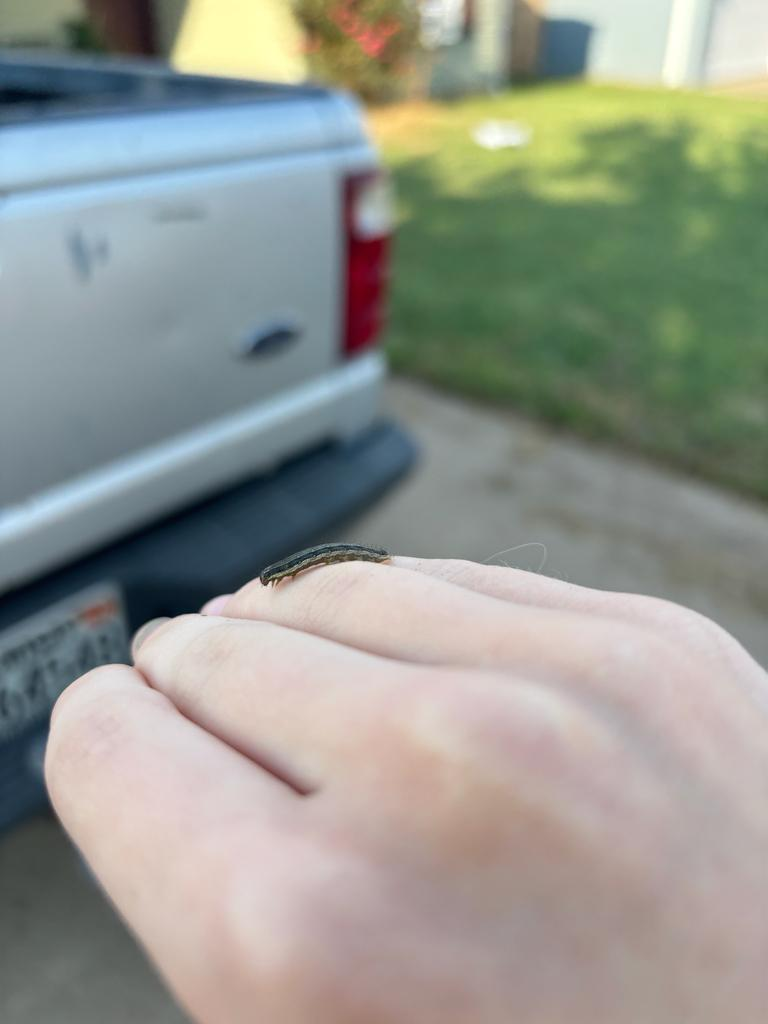caterpillars: (239, 527, 416, 600)
